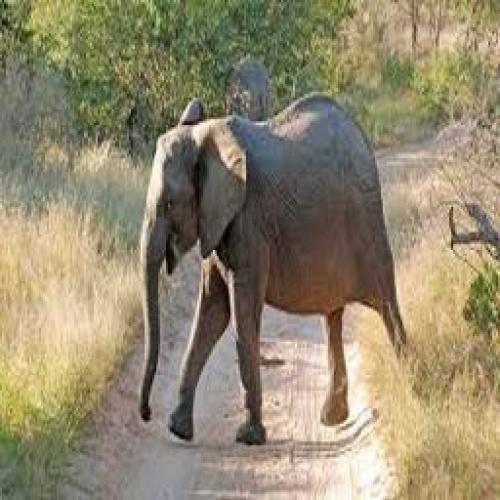african_elephant-endangered: (136, 93, 413, 448)
